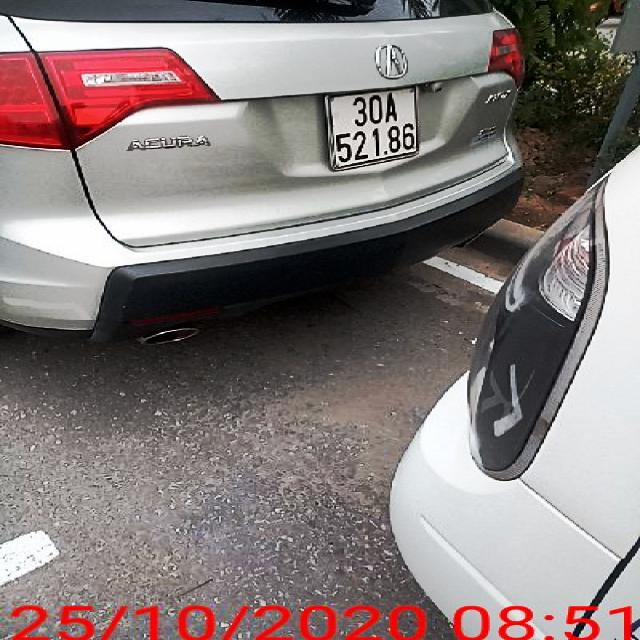license_plate: (329, 87, 423, 169)
